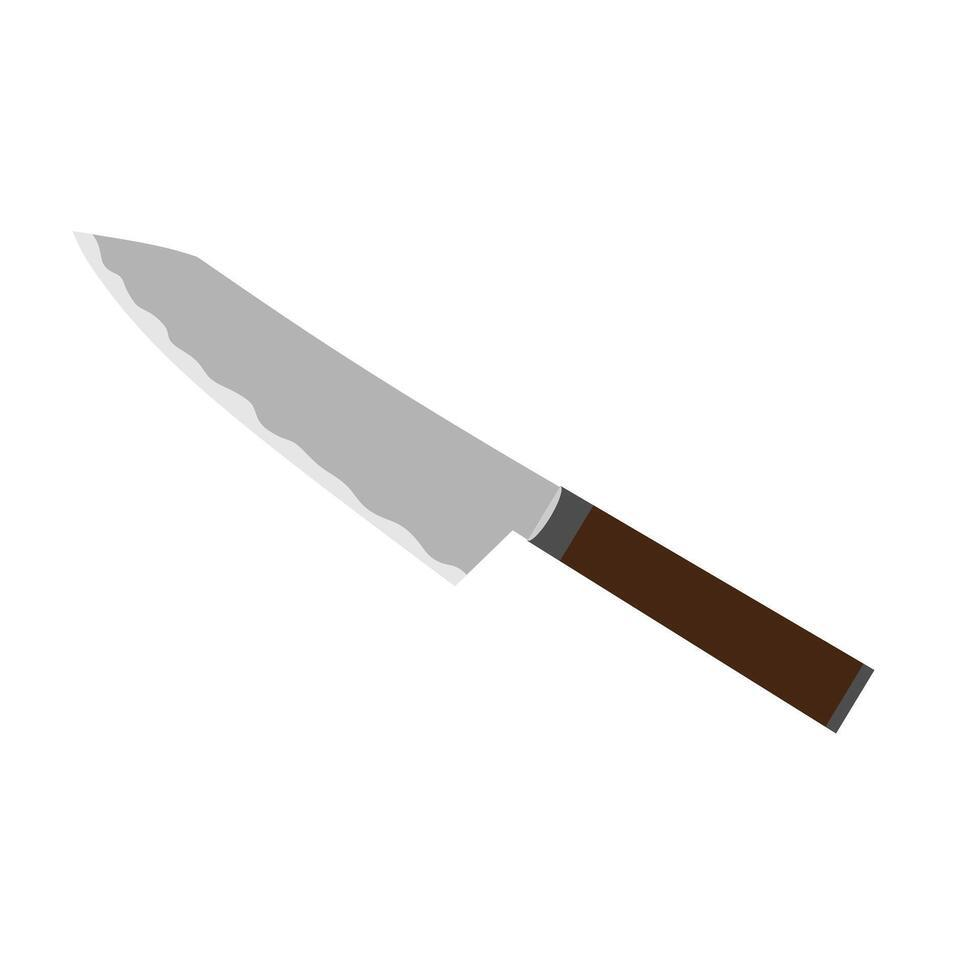Knife: (72, 229, 874, 734)
